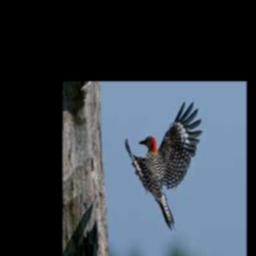Woodpecker: (125, 101, 203, 230)
